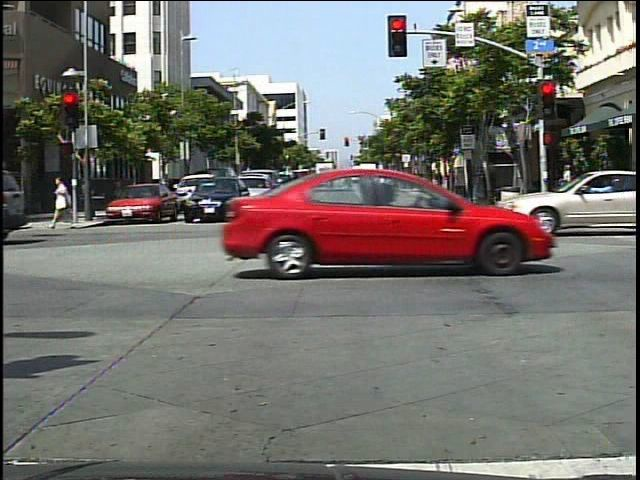person: (50, 170, 82, 233), (556, 162, 579, 213)
